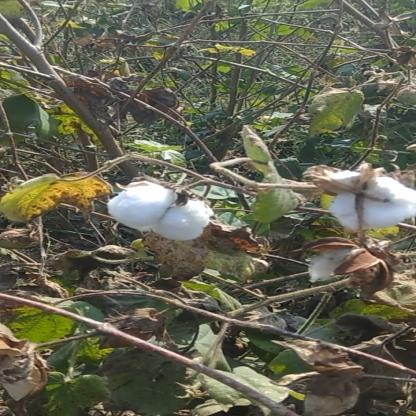cotton_ready: (92, 176, 231, 253), (304, 160, 416, 244)
